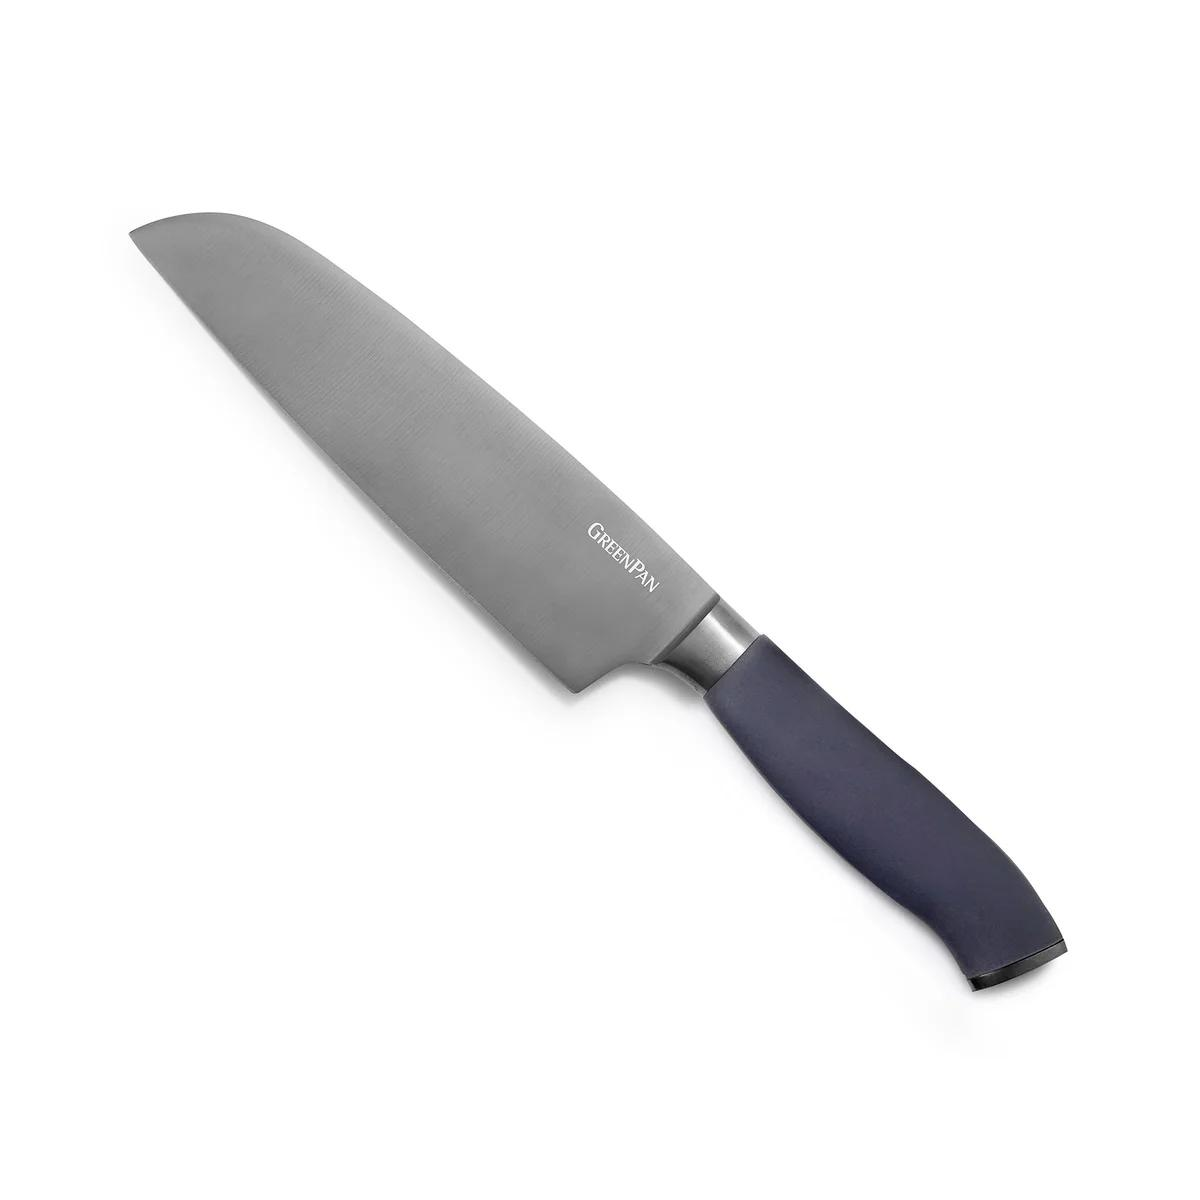knife: (126, 209, 1070, 993)
